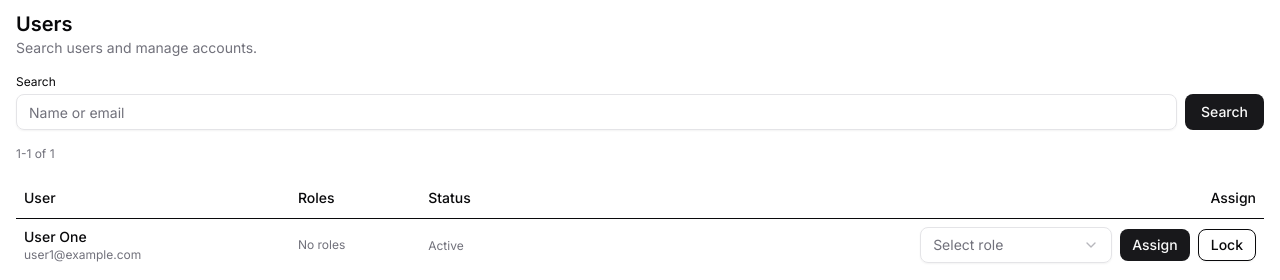
AdminUsersPage › loads and displays users, and supports lock/unlock
Click the button "Lock": (1227, 244) [1198, 228, 1256, 260]
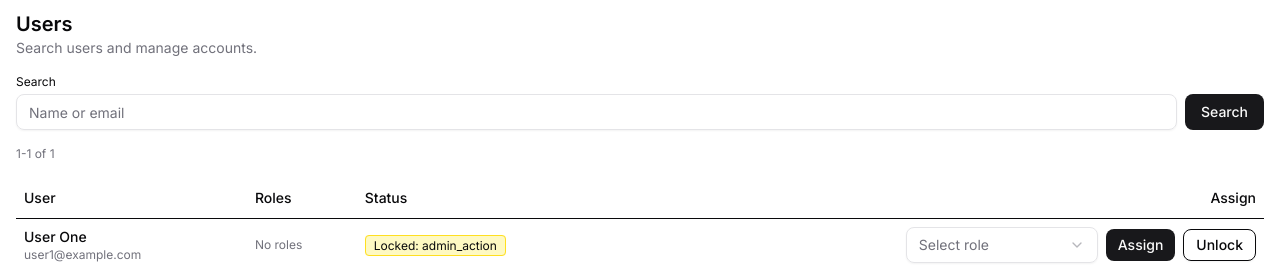
Check: the text "Locked: admin_action" is shown, box [365, 234, 506, 256]
Click the button "Unlock": (1220, 244) [1183, 228, 1256, 260]
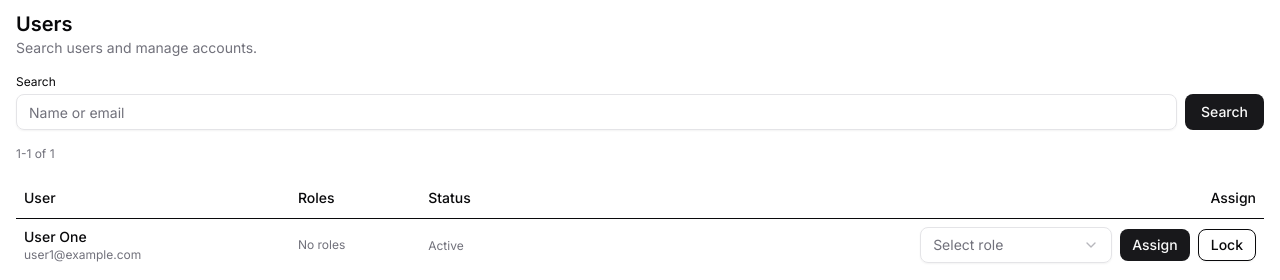
Check: the text "Active" is shown, box [428, 238, 464, 252]
